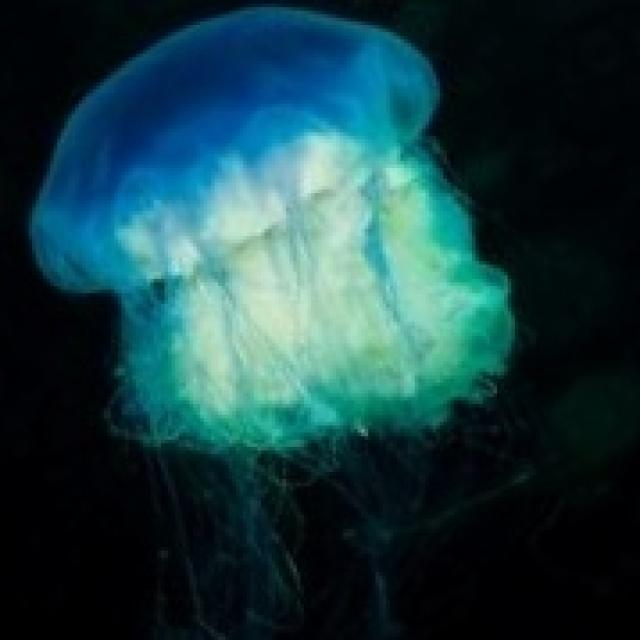Jellyfish: (28, 11, 550, 536)
